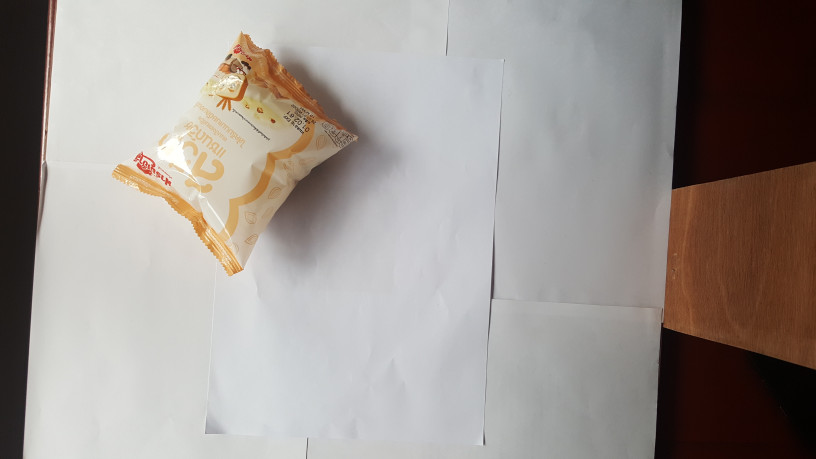farmhouse-sweetsandwich-almond: (111, 27, 362, 286)
